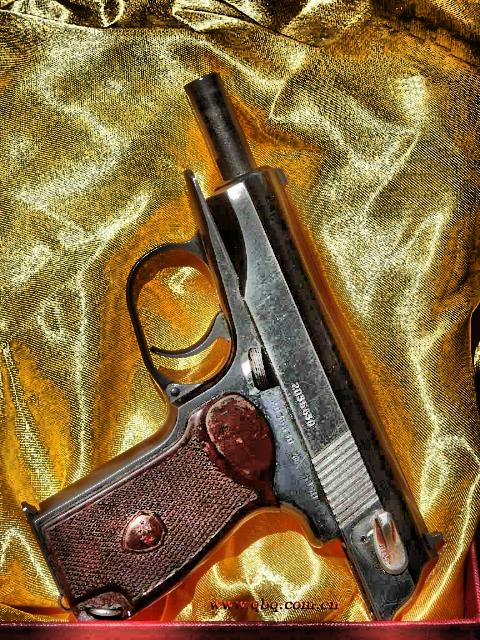pistol: (26, 68, 440, 620)
